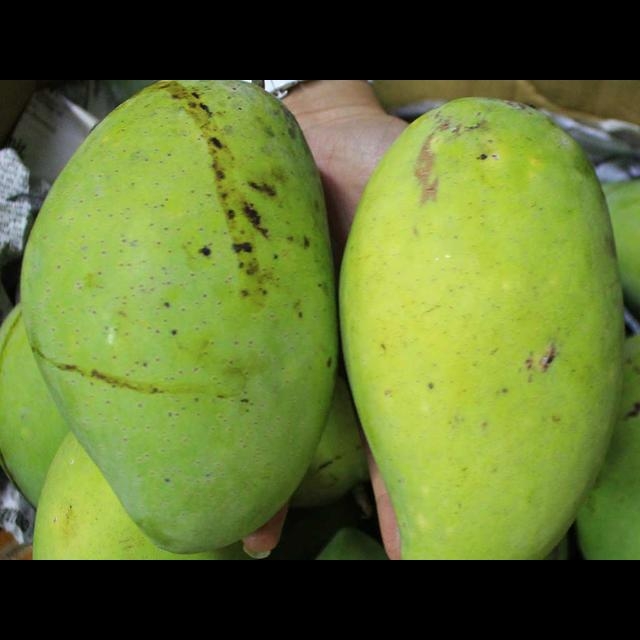xoai: (20, 77, 339, 554), (341, 96, 623, 560)
